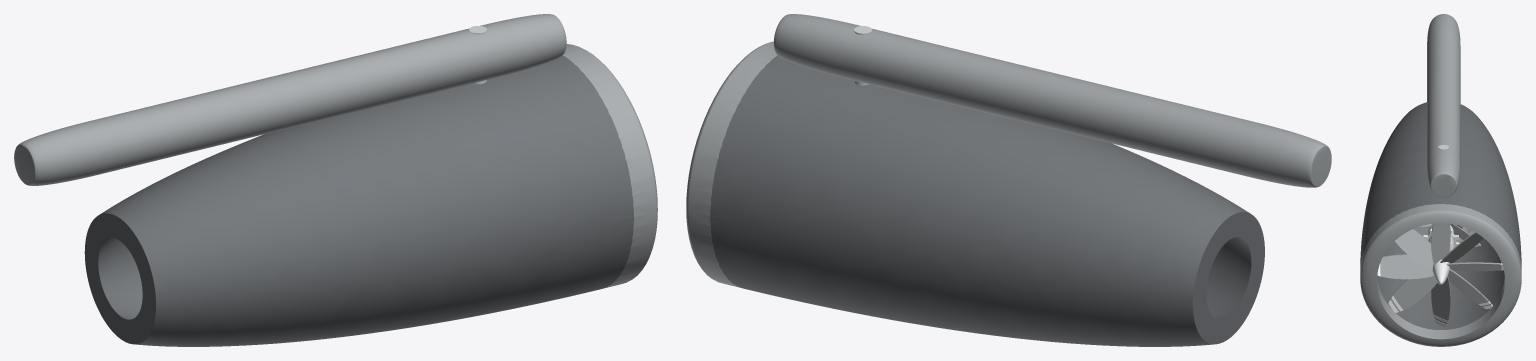
File: handcrafted_3d_turbine_schindler_d1_2025.glb
The picture shows the model from 3 angles, left to right: view 1: azimuth 30°, elevation 25°; view 2: azimuth 150°, elevation 25°; view 3: azimuth 270°, elevation 25°; orthographic projection. The views are drawn at different scales.
Parts seen in each view (by area): view 1: node_id50_1; view 2: node_id50_1; view 3: node_id50_1.
Part boxes in pixels (x1,y1,x2,y2): node_id50_1: (14,14,657,346); node_id50_1: (686,14,1331,346); node_id50_1: (1360,14,1521,346).
Size of the model in its own units: 0.512 by 0.2283 by 0.2006.
1 material, 1 textured.
